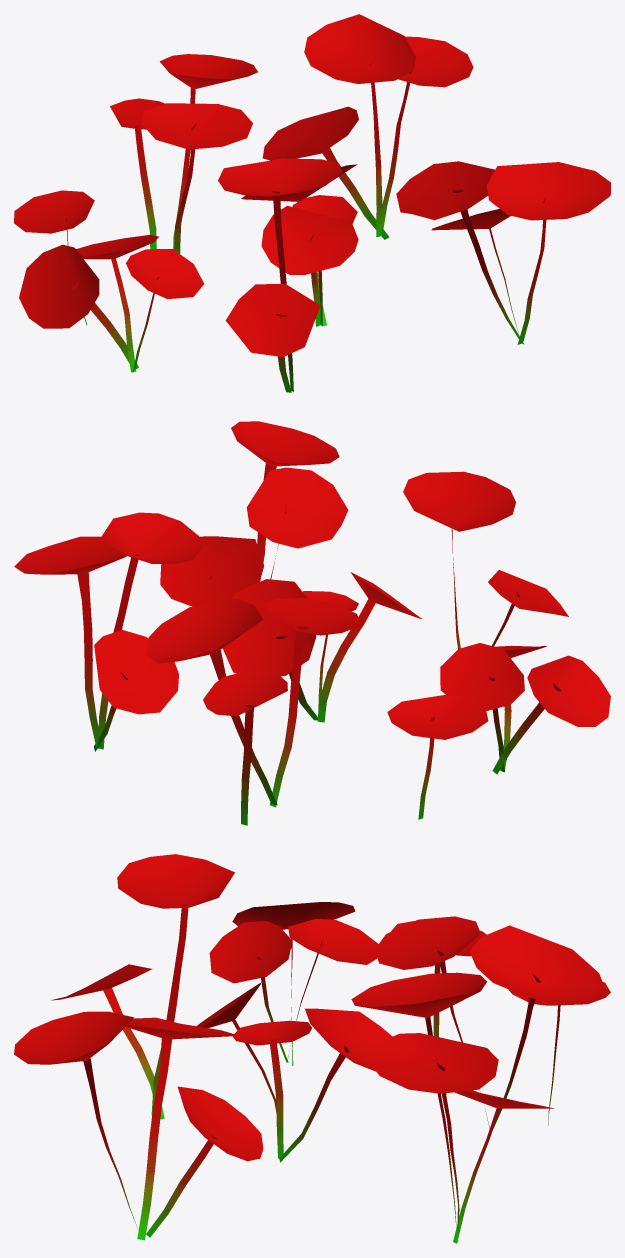
The model's file is Native Violet_LOD3_Var8_ultkcfeja.fbx.
The picture shows the model from 3 angles, top to bottom: view 1: azimuth 30°, elevation 25°; view 2: azimuth 150°, elevation 25°; view 3: azimuth 270°, elevation 25°; orthographic projection. The views are drawn at different scales.
Visible parts, largest first — view 1: _yzxe_Var8_LOD3; view 2: _yzxe_Var8_LOD3; view 3: _yzxe_Var8_LOD3.
Boxes of the visible parts, left/top/right/bottom form: _yzxe_Var8_LOD3: left=14, top=14, right=610, bottom=392; _yzxe_Var8_LOD3: left=14, top=421, right=610, bottom=825; _yzxe_Var8_LOD3: left=14, top=854, right=610, bottom=1243.
Bounding box in the file's own units: 24.89 × 10.52 × 23.22.
